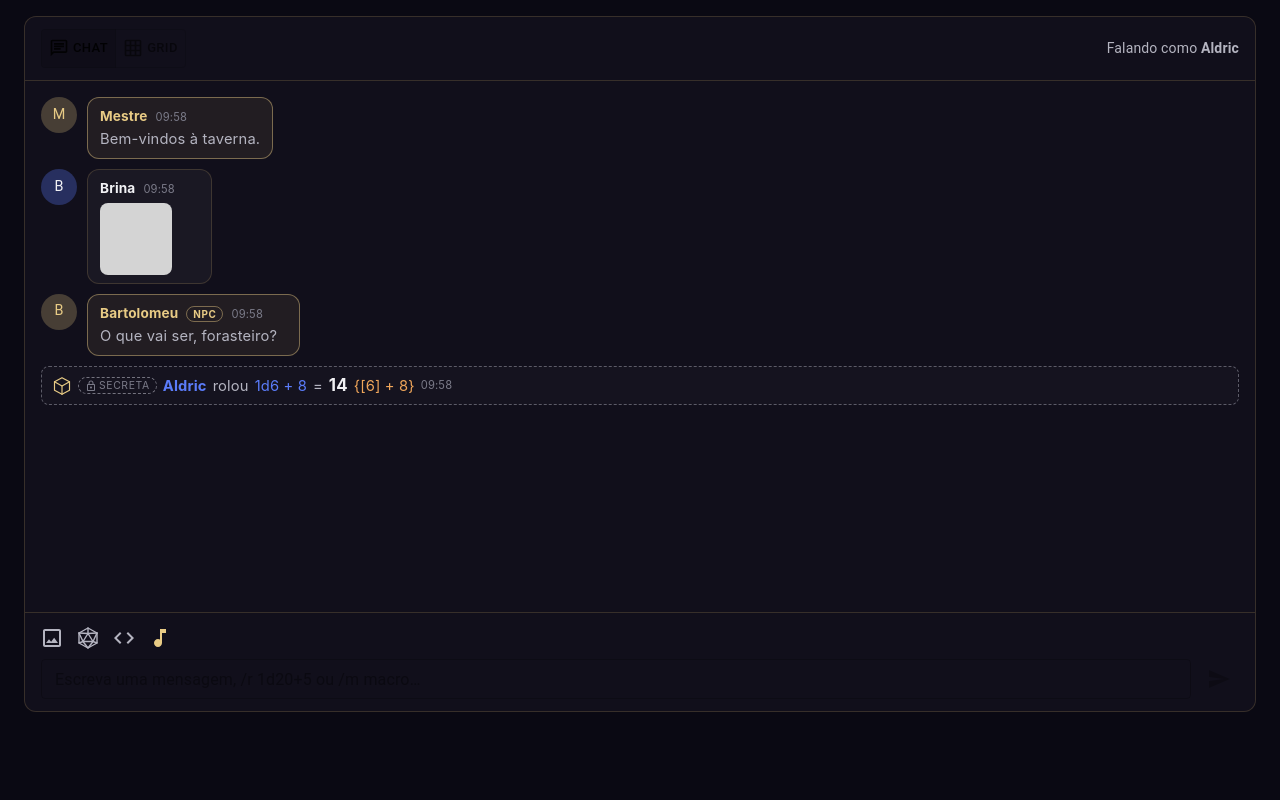
CampanhaChat › música da mesa › jogador vê o que toca e ajusta só o volume (sem controles do mestre)
This screenshot has width=1280, height=800.
Expected: the text "Bem-vindos à taverna." is shown, top-left (100, 128), bottom-right (260, 150)
What coordinates should you click on to do the following:
click the button named "Música da mesa"
I would click on:
 (160, 638)
Its box is top-left (143, 621), bottom-right (177, 655).
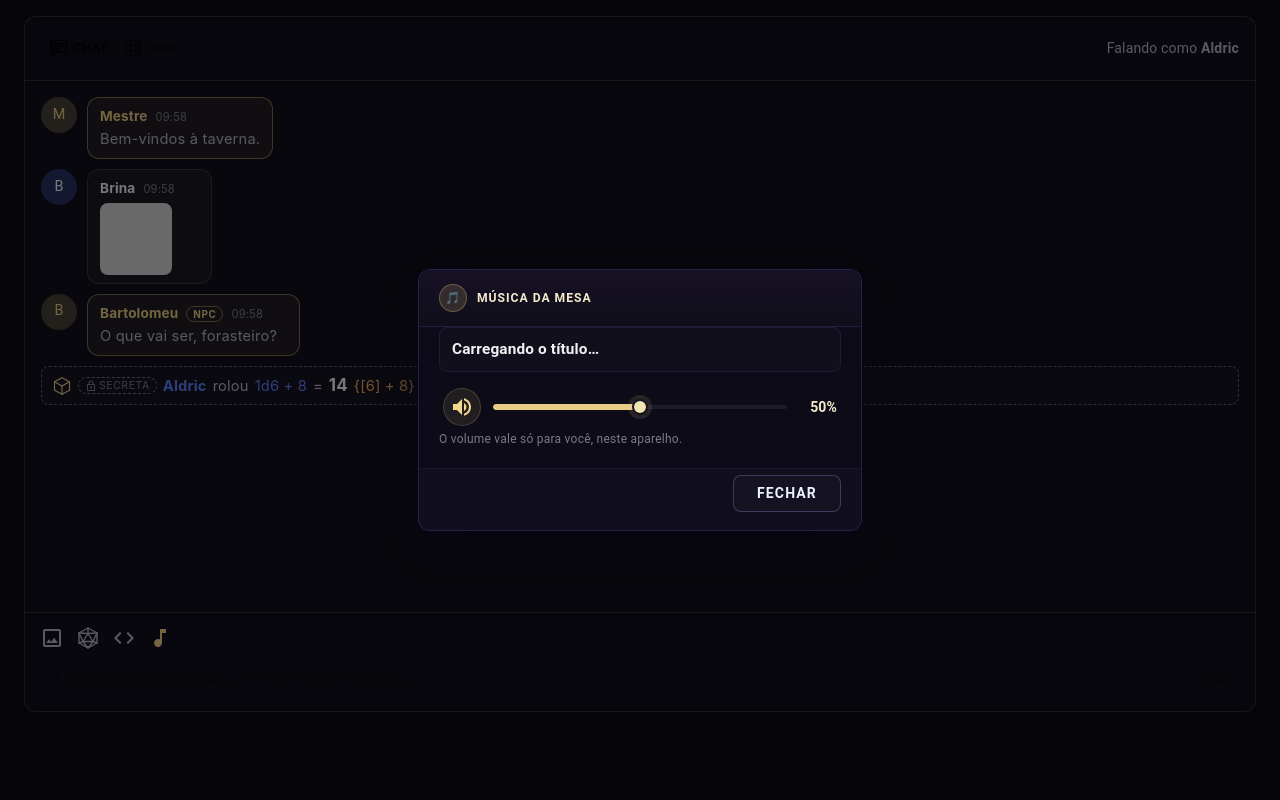
Result: the message shows "Carregando o título" at top-left (452, 340), bottom-right (599, 358)
Result: the slider named "Volume da música" is shown at top-left (634, 401), bottom-right (646, 413)
What coordinates should you click on to do the following:
click the button named "Silenciar"
I would click on:
 (462, 407)
Its box is top-left (443, 388), bottom-right (481, 426).
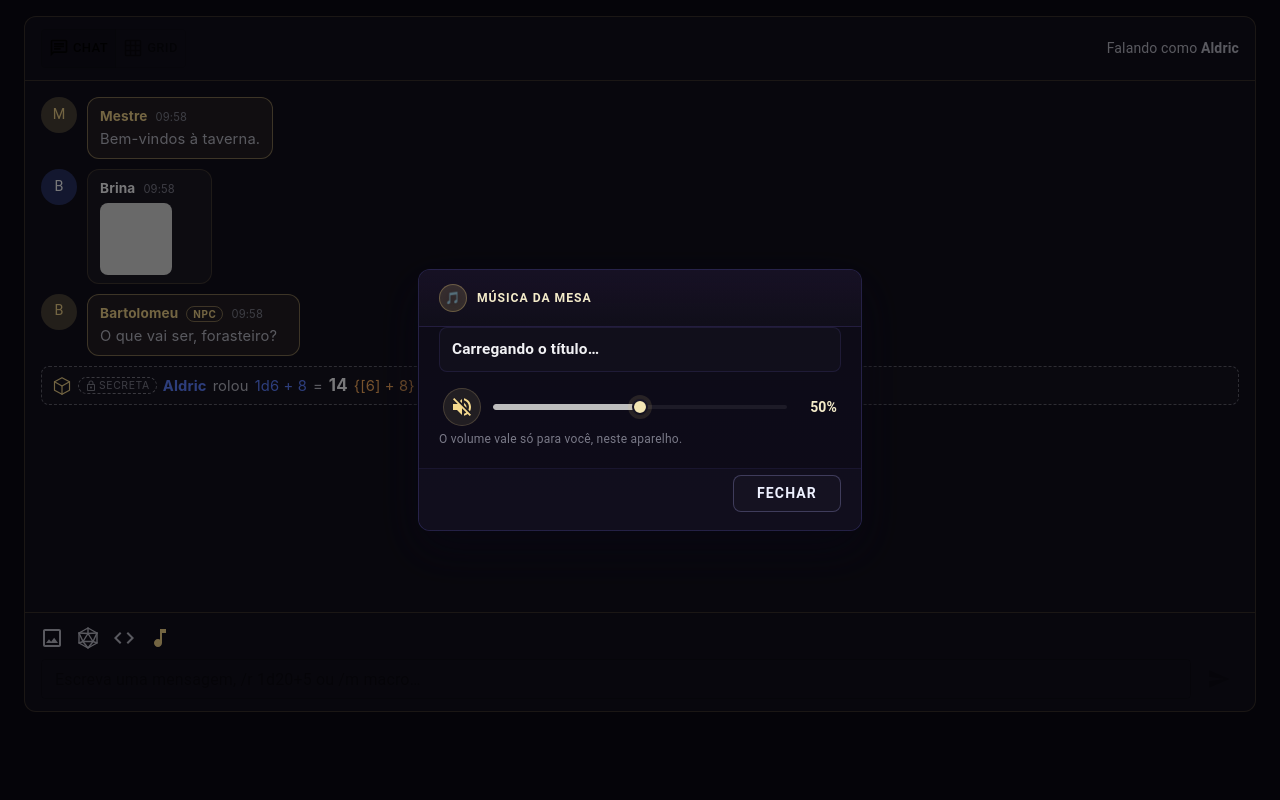
Result: the button named "Ativar som" is shown at top-left (443, 388), bottom-right (481, 426)
